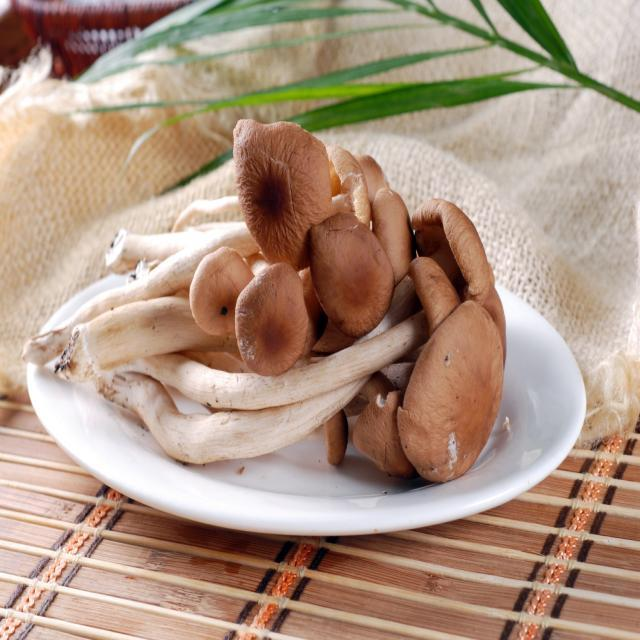Agrocybe aegerita: (28, 127, 507, 483)
